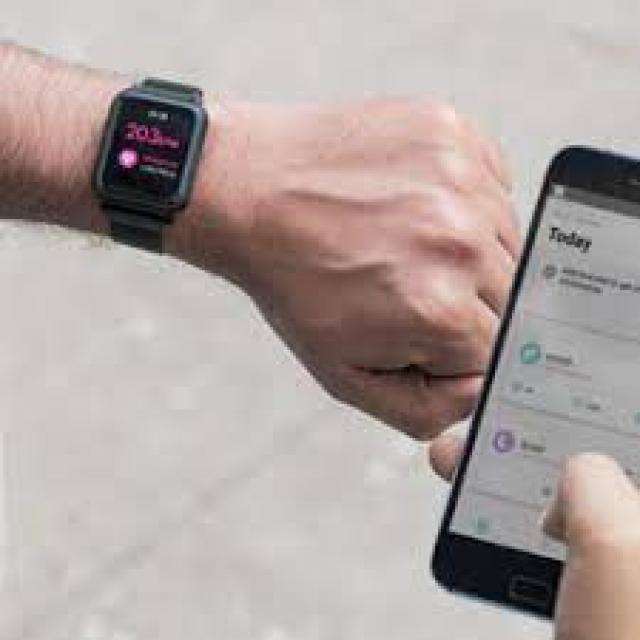objects: (91, 77, 208, 250)
